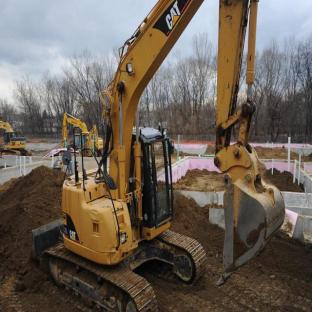ExcavationMachinery: (71, 0, 296, 312)
